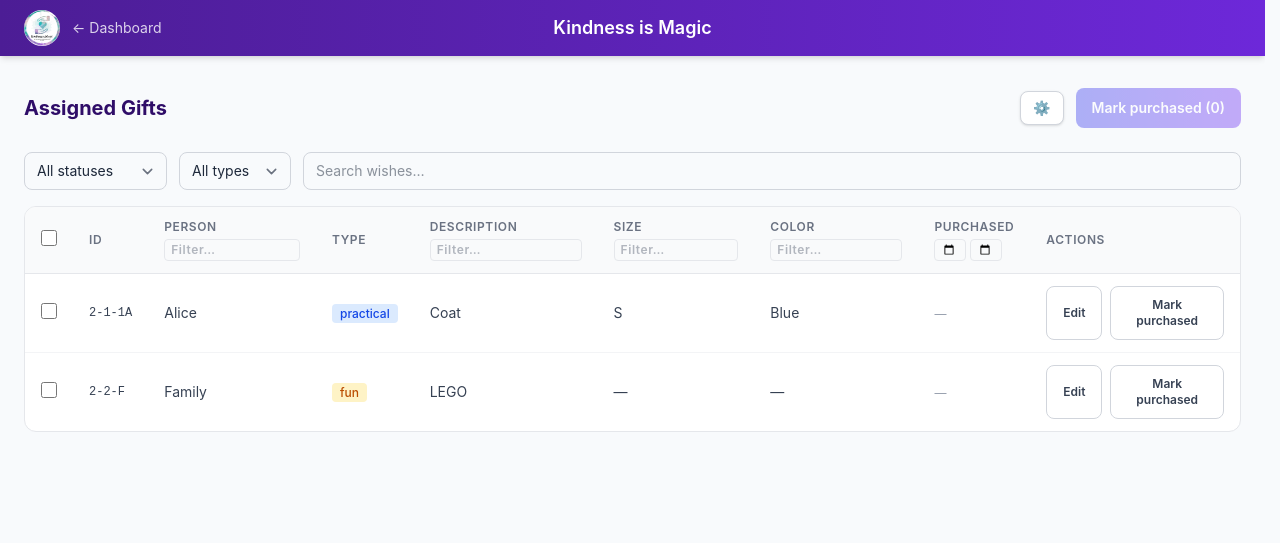
Test case: PurchaserAssignedGifts › renders per-column filter inputs without a Family filter or sort
Expected: the text "Coat" is shown, top-left (414, 274), bottom-right (598, 352)
Expected: the field named "Filter by Person" is shown, top-left (164, 239), bottom-right (300, 261)
Click the button named "Toggle columns" at (1042, 108), box top-left (1020, 91), bottom-right (1064, 125)
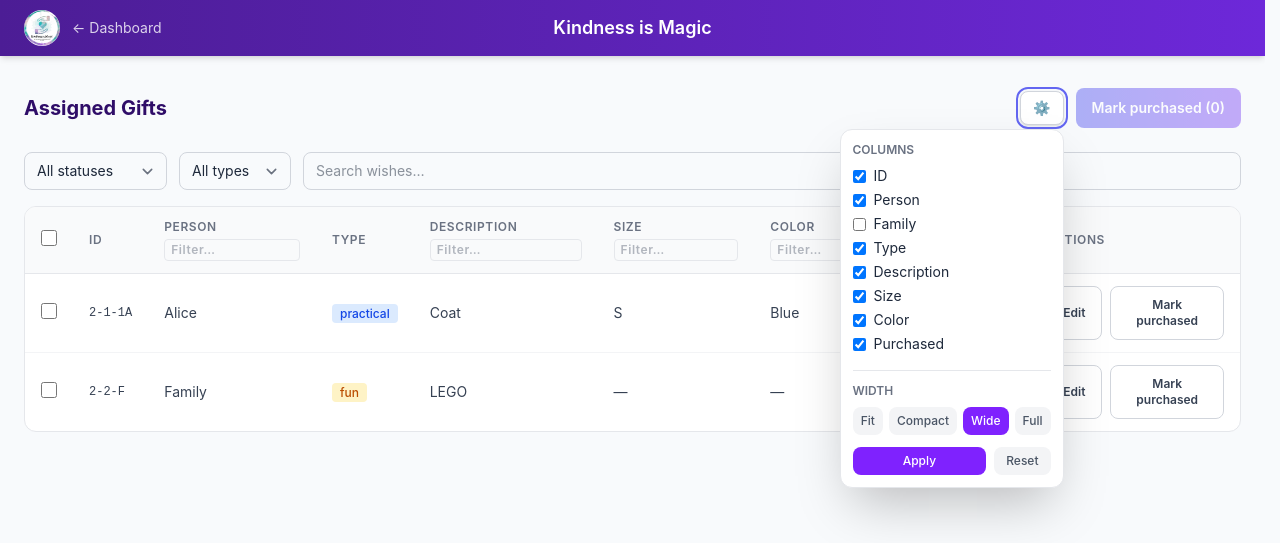
Click the checkbox labelled "Family" at (859, 224), box top-left (852, 218), bottom-right (866, 230)
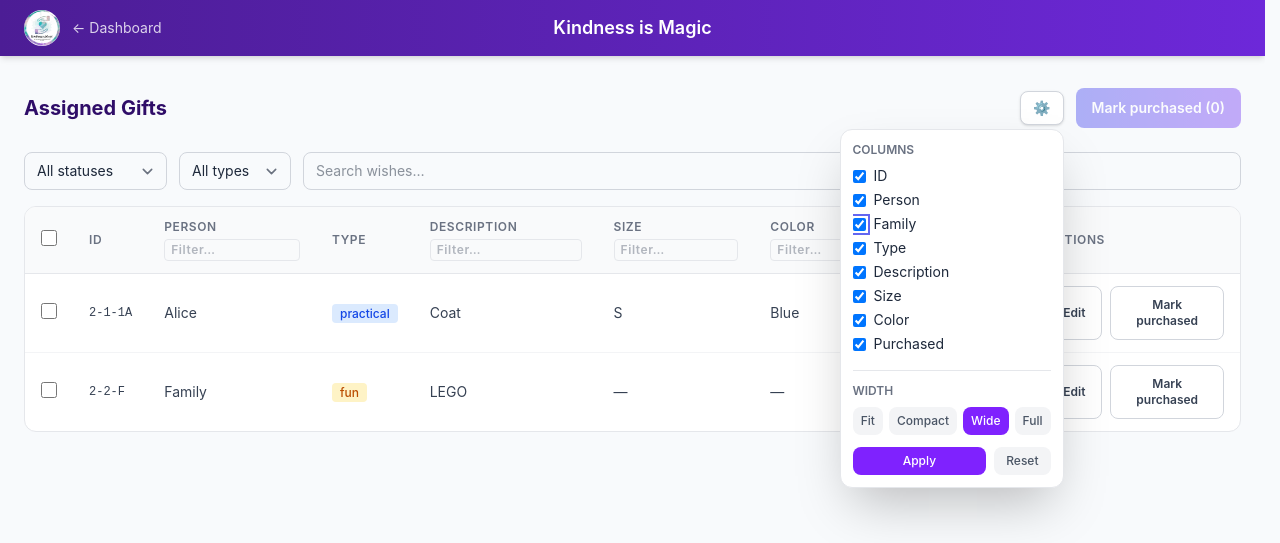
Click the button "Apply" at (919, 461), box top-left (852, 447), bottom-right (986, 475)
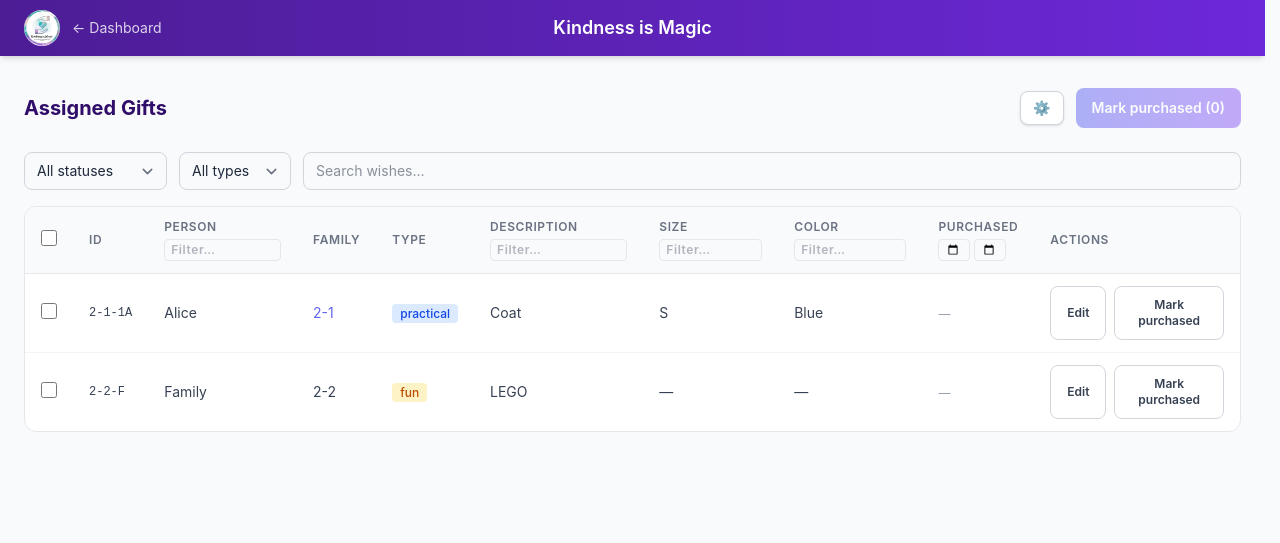
Expected: the column heading "Family" is shown, top-left (297, 207), bottom-right (376, 274)
Expected: the checkbox labelled "Filter by Type" is gone
